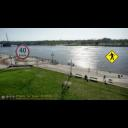speed_limit_40: (16, 44, 30, 60)
